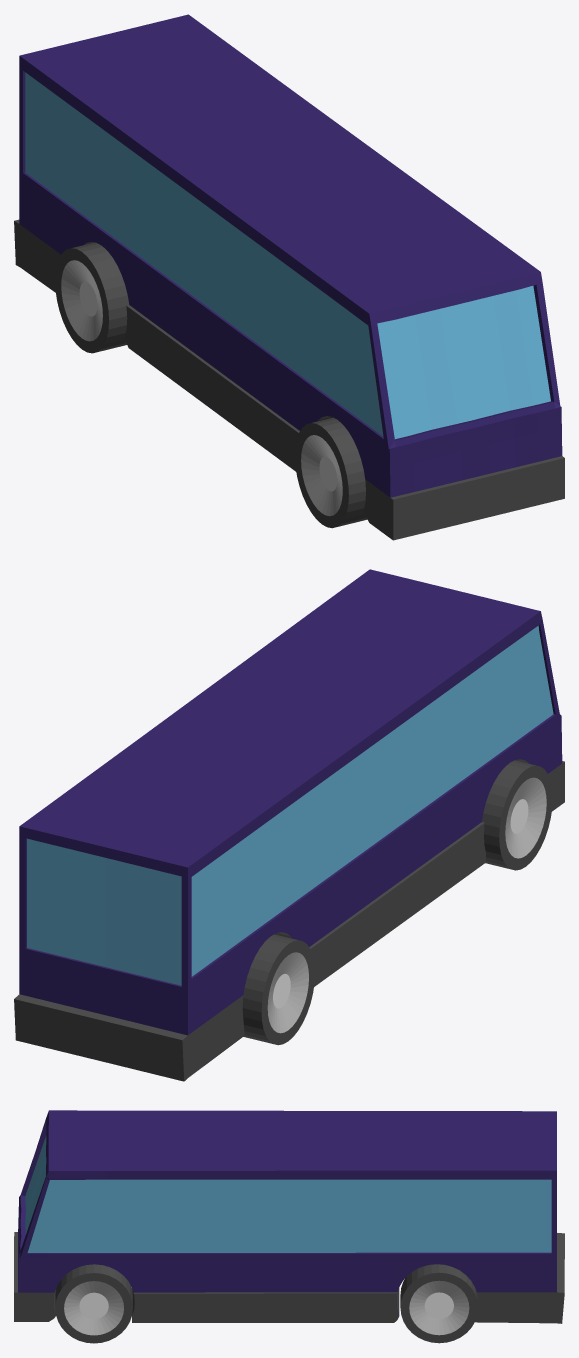
File: bus_purple.fbx
3 renders of one model, top to bottom at view 1: azimuth 30°, elevation 25°; view 2: azimuth 150°, elevation 25°; view 3: azimuth 270°, elevation 25°, orthographic. The views are drawn at different scales.
Visible parts, largest first — view 1: Cube.013, Cylinder.046, Cylinder.049; view 2: Cube.013, Cylinder.046, Cylinder.049; view 3: Cube.013, Cylinder.047, Cylinder.048.
Part boxes in pixels (x1,y1,x2,y2): Cube.013: (14, 14, 564, 540); Cylinder.046: (55, 242, 129, 353); Cylinder.049: (295, 417, 367, 528); Cube.013: (14, 569, 564, 1081); Cylinder.046: (242, 934, 314, 1045); Cylinder.049: (482, 760, 552, 870); Cube.013: (14, 1110, 564, 1323); Cylinder.047: (55, 1264, 132, 1343); Cylinder.048: (400, 1264, 478, 1343).
Size of the model in its own units: 92.15 by 97.12 by 293.
